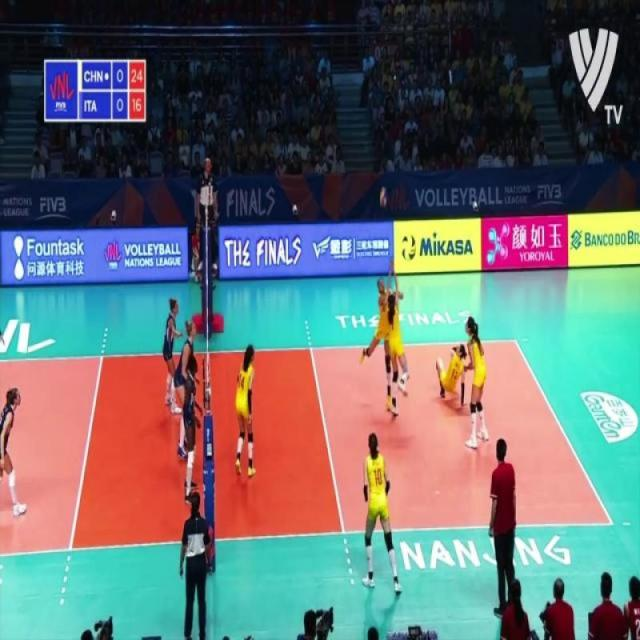volleyball: (399, 232, 419, 266), (378, 184, 390, 211)
